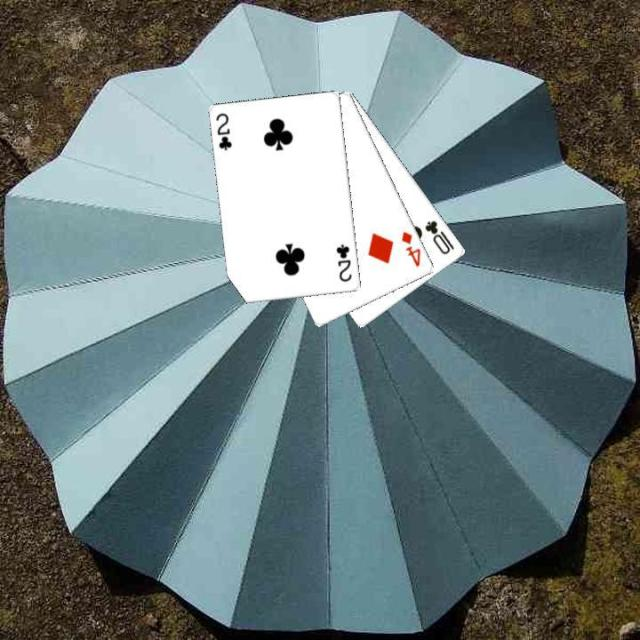10C: (421, 216, 457, 257)
2C: (212, 109, 234, 152), (332, 241, 354, 283)
4D: (397, 228, 423, 268)
